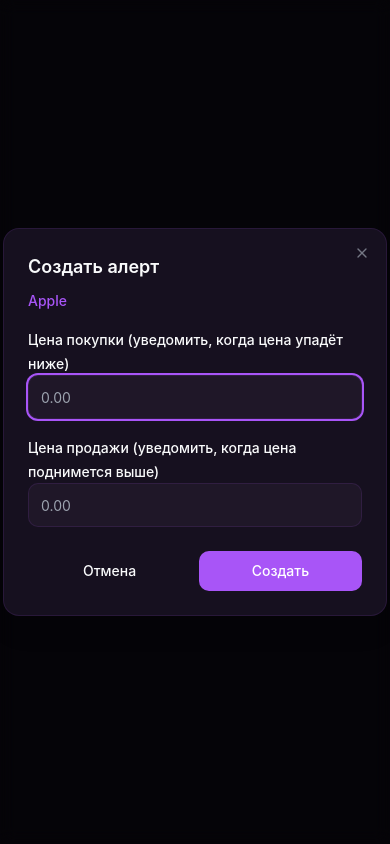
it: AlertDialog — validation › shows error when inputs are not valid numbers
The width and height of the screenshot is (390, 844).
Type "abc" into the field labelled "Цена покупки (уведомить, когда цена упадёт ниже)". click: [195, 397]
box: [28,375,362,419]
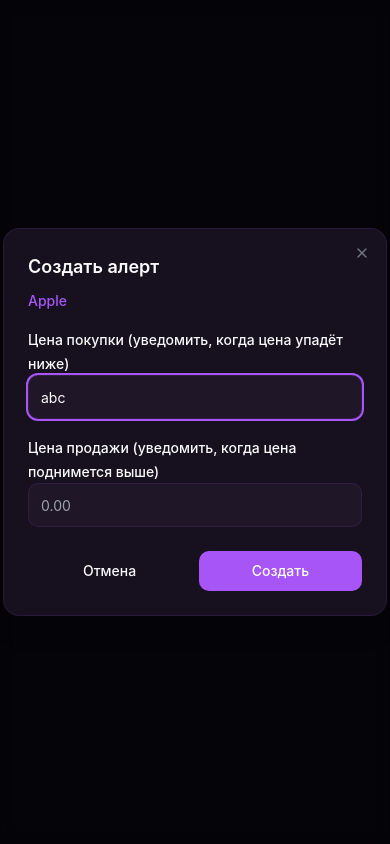
Click the button "Создать". click: [280, 571]
box: [199,551,362,591]
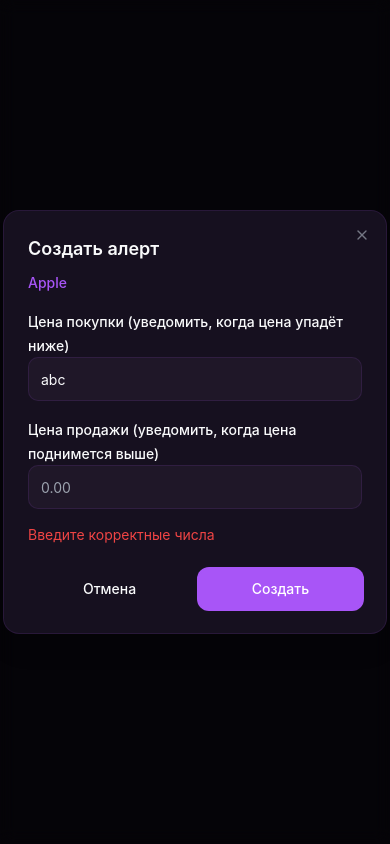
Check: the text "Введите корректные числа" is shown, box [28,526,215,543]
